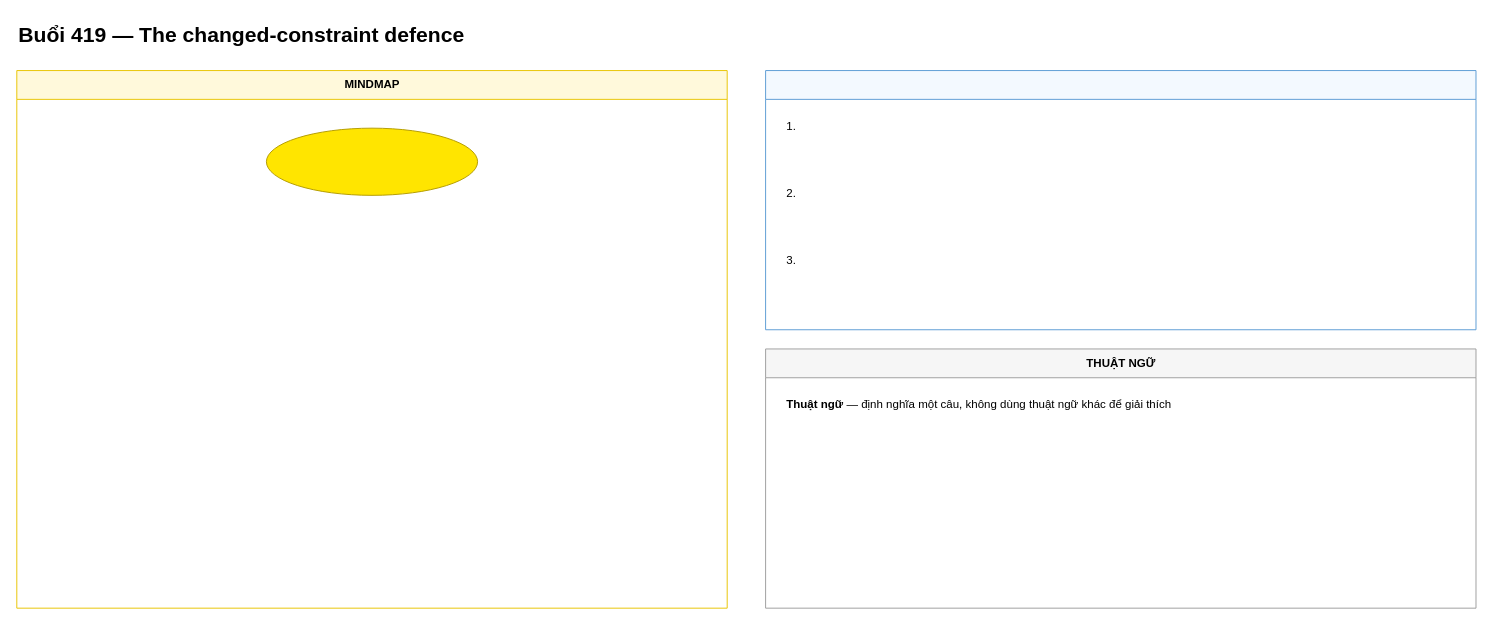
Image size: 1493x625. Some labels were removed from this diagram. Each missing label, with the box of its shape:
KEY TAKEAWAY — ba điều phải nhớ: (765, 70, 1476, 330)
The changed-constraint defence: (265, 127, 478, 195)
